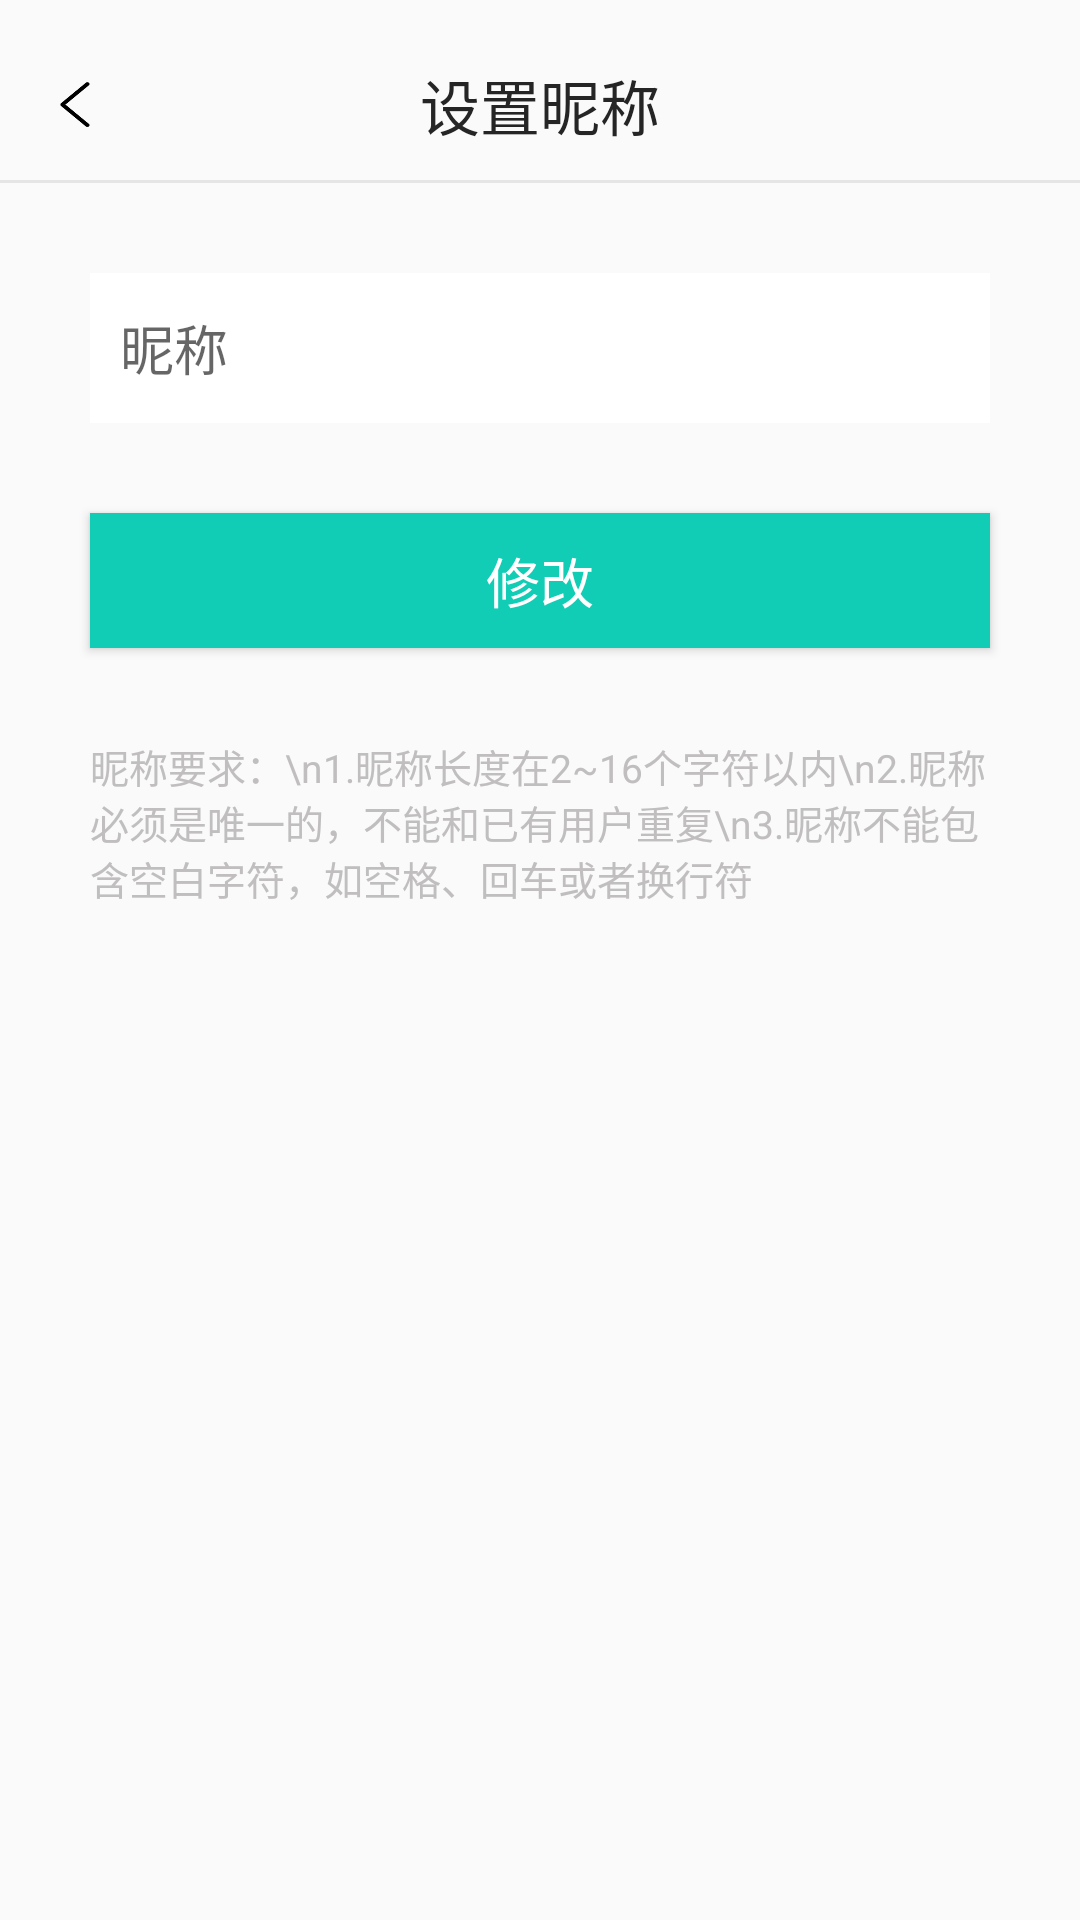

Icons on this 1080x1920 Android screen, each with the point to tap as (x=x, y=y):
back: (x=75, y=104)
